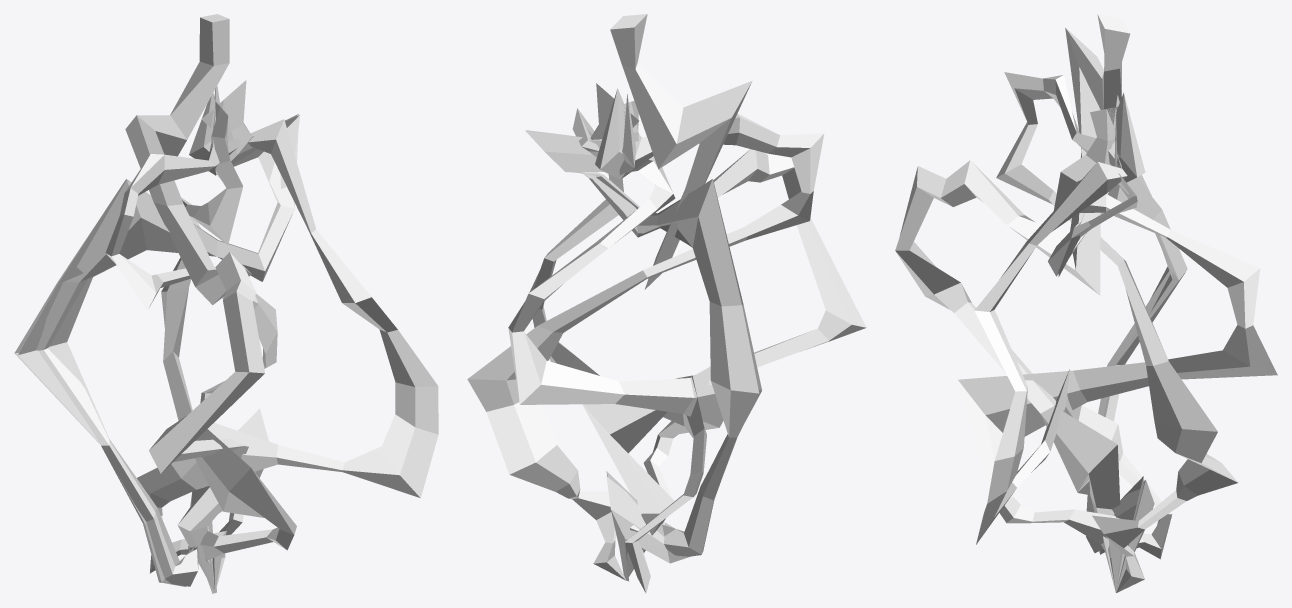
Rendered from Lightnings3D.fbx.
3 views of the same model, side by side, from view 1: azimuth 30°, elevation 25°; view 2: azimuth 150°, elevation 25°; view 3: azimuth 270°, elevation 25° (orthographic). The views are drawn at different scales.
Parts seen in each view (by area): view 1: Lightning5, Lightning4, Lightning1, Lightning2, Lightning3, L1; view 2: Lightning5, Lightning3, Lightning1, Lightning2, Lightning4, L1; view 3: Lightning5, Lightning2, Lightning3, Lightning4, Lightning1, L1.
Part boxes in pixels (x1,y1,x2,y2): Lightning5: (125, 14, 268, 592); Lightning4: (137, 93, 438, 592); Lightning1: (14, 80, 299, 586); Lightning2: (161, 101, 296, 589); Lightning3: (105, 86, 277, 586); L1: (18, 100, 299, 593); Lightning5: (582, 14, 866, 576); Lightning3: (467, 88, 824, 580); Lightning1: (525, 83, 759, 578); Lightning2: (508, 101, 723, 579); Lightning4: (529, 94, 706, 593); L1: (526, 125, 761, 581); Lightning5: (895, 14, 1130, 591); Lightning2: (958, 106, 1277, 590); Lightning3: (996, 72, 1237, 592); Lightning4: (974, 95, 1172, 591); Lightning1: (1048, 115, 1187, 591); L1: (1058, 173, 1172, 592).
Size of the model in its own units: 0.9458 by 1.59 by 0.9606.
